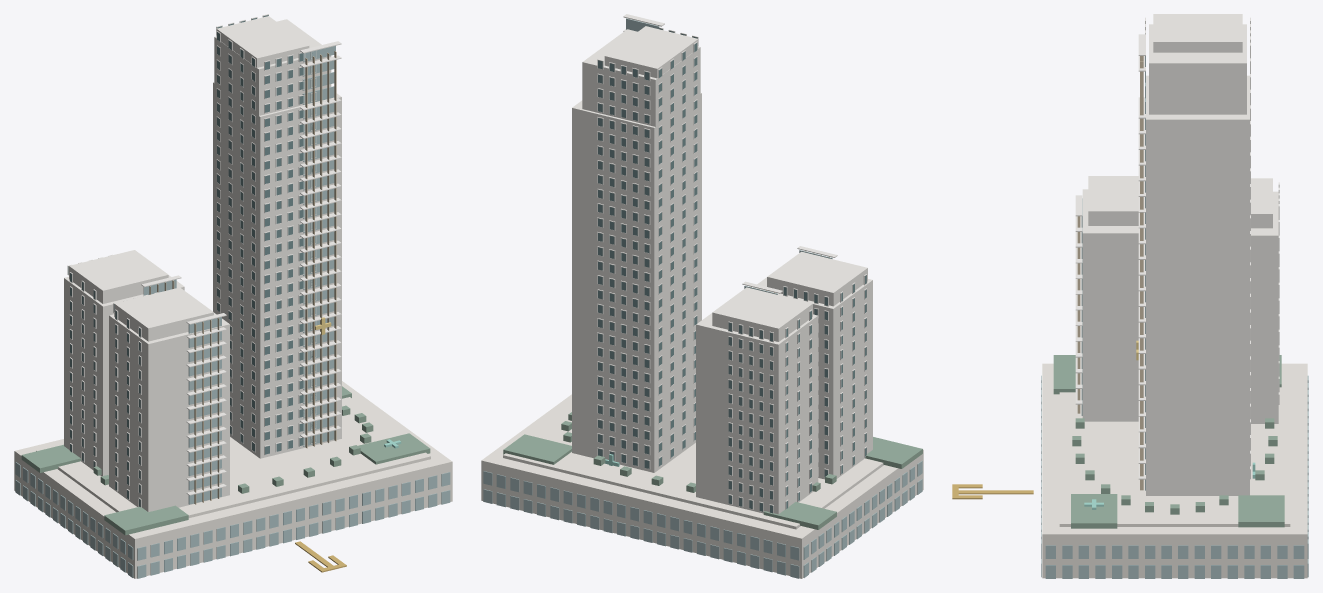
3 renders of one model, left to right at view 1: azimuth 30°, elevation 25°; view 2: azimuth 150°, elevation 25°; view 3: azimuth 270°, elevation 25°, orthographic. The views are drawn at different scales.
Visible parts, largest first — view 1: Tower_28_Level_Massing, Podium_Double_Level, Glass_Terrace_Strips, Boutique_A_13_Level, Balcony_Bands, Boutique_B_13_Level, Punched_Window_Shadow, Champagne_Fins, Landscape_Terraces; view 2: Tower_28_Level_Massing, Podium_Double_Level, Boutique_B_13_Level, Balcony_Bands, Punched_Window_Shadow, Boutique_A_13_Level, Glass_Terrace_Strips, Landscape_Terraces; view 3: Tower_28_Level_Massing, Podium_Double_Level, Boutique_A_13_Level, Boutique_B_13_Level, Glass_Terrace_Strips, Landscape_Terraces, Balcony_Bands, Champagne_Fins, North_Reference.
Boxes of the visible parts, <box> form: Tower_28_Level_Massing: <box>213,16,341,458</box>; Podium_Double_Level: <box>14,381,452,578</box>; Glass_Terrace_Strips: <box>15,46,450,578</box>; Boutique_A_13_Level: <box>109,287,229,511</box>; Balcony_Bands: <box>67,14,341,507</box>; Boutique_B_13_Level: <box>64,250,184,476</box>; Punched_Window_Shadow: <box>68,15,315,506</box>; Champagne_Fins: <box>149,51,336,504</box>; Landscape_Terraces: <box>21,386,430,535</box>; Tower_28_Level_Massing: <box>572,26,701,472</box>; Podium_Double_Level: <box>481,394,923,578</box>; Boutique_B_13_Level: <box>696,287,818,514</box>; Balcony_Bands: <box>597,14,867,513</box>; Punched_Window_Shadow: <box>598,28,866,513</box>; Boutique_A_13_Level: <box>753,251,872,479</box>; Glass_Terrace_Strips: <box>483,18,922,578</box>; Landscape_Terraces: <box>503,412,922,529</box>; Tower_28_Level_Massing: <box>1146,14,1249,495</box>; Podium_Double_Level: <box>1042,363,1307,578</box>; Boutique_A_13_Level: <box>1082,176,1138,421</box>; Boutique_B_13_Level: <box>1251,178,1278,423</box>; Glass_Terrace_Strips: <box>1041,56,1308,578</box>; Landscape_Terraces: <box>1053,355,1284,528</box>; Balcony_Bands: <box>1075,17,1279,479</box>; Champagne_Fins: <box>1077,56,1143,490</box>; North_Reference: <box>952,484,1033,499</box>.
Size of the model in its own units: 71.15 by 93.22 by 61.7.
